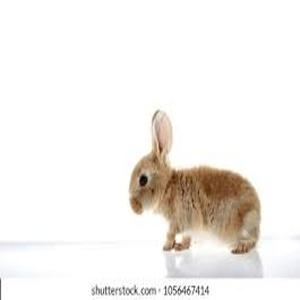rabbit: (129, 111, 261, 256)
